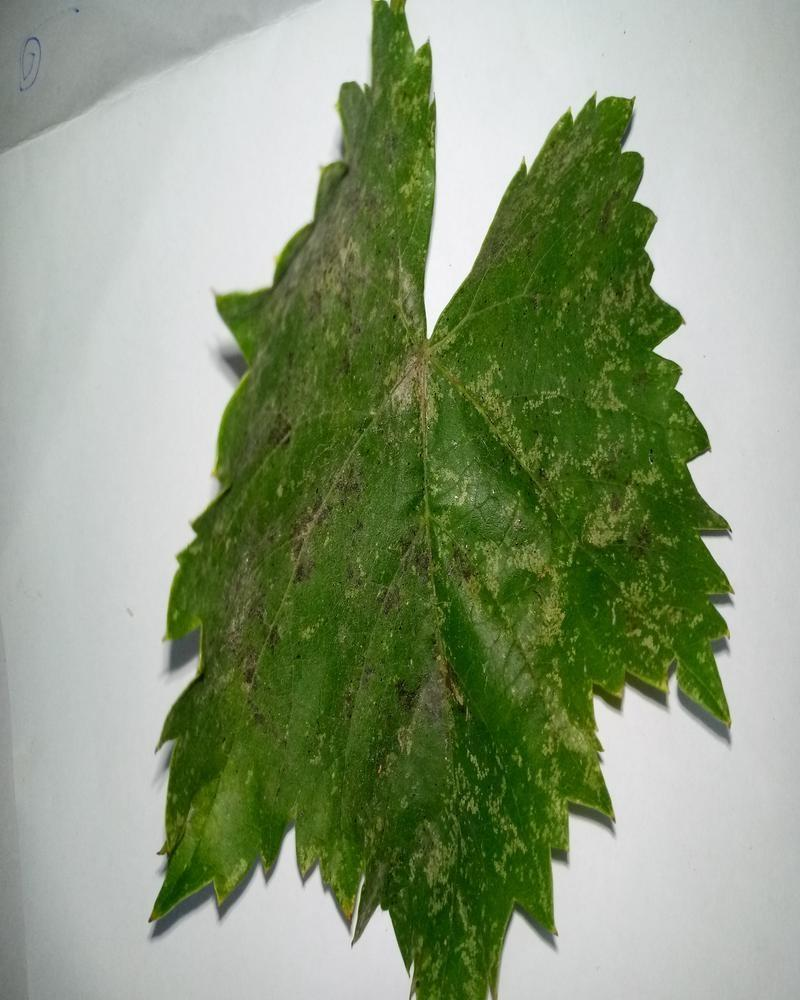Powdery-Mildew: (205, 92, 527, 678), (360, 643, 500, 900), (453, 527, 591, 775), (584, 258, 675, 545), (500, 88, 643, 252), (616, 563, 728, 721)
